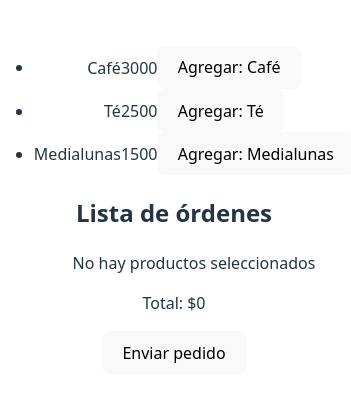
Scenario: Visualización inicial del menú › H2 - Agregar ítem al pedido
expect the list item "Café" is shown: met, box [87,56,121,78]
Click the button "Agregar: Café".
click(229, 67)  # box [158,46,301,89]
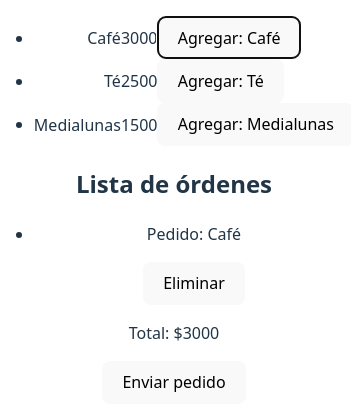
expect the text "Pedido: Café" is shown: met, box [147,222,241,244]
